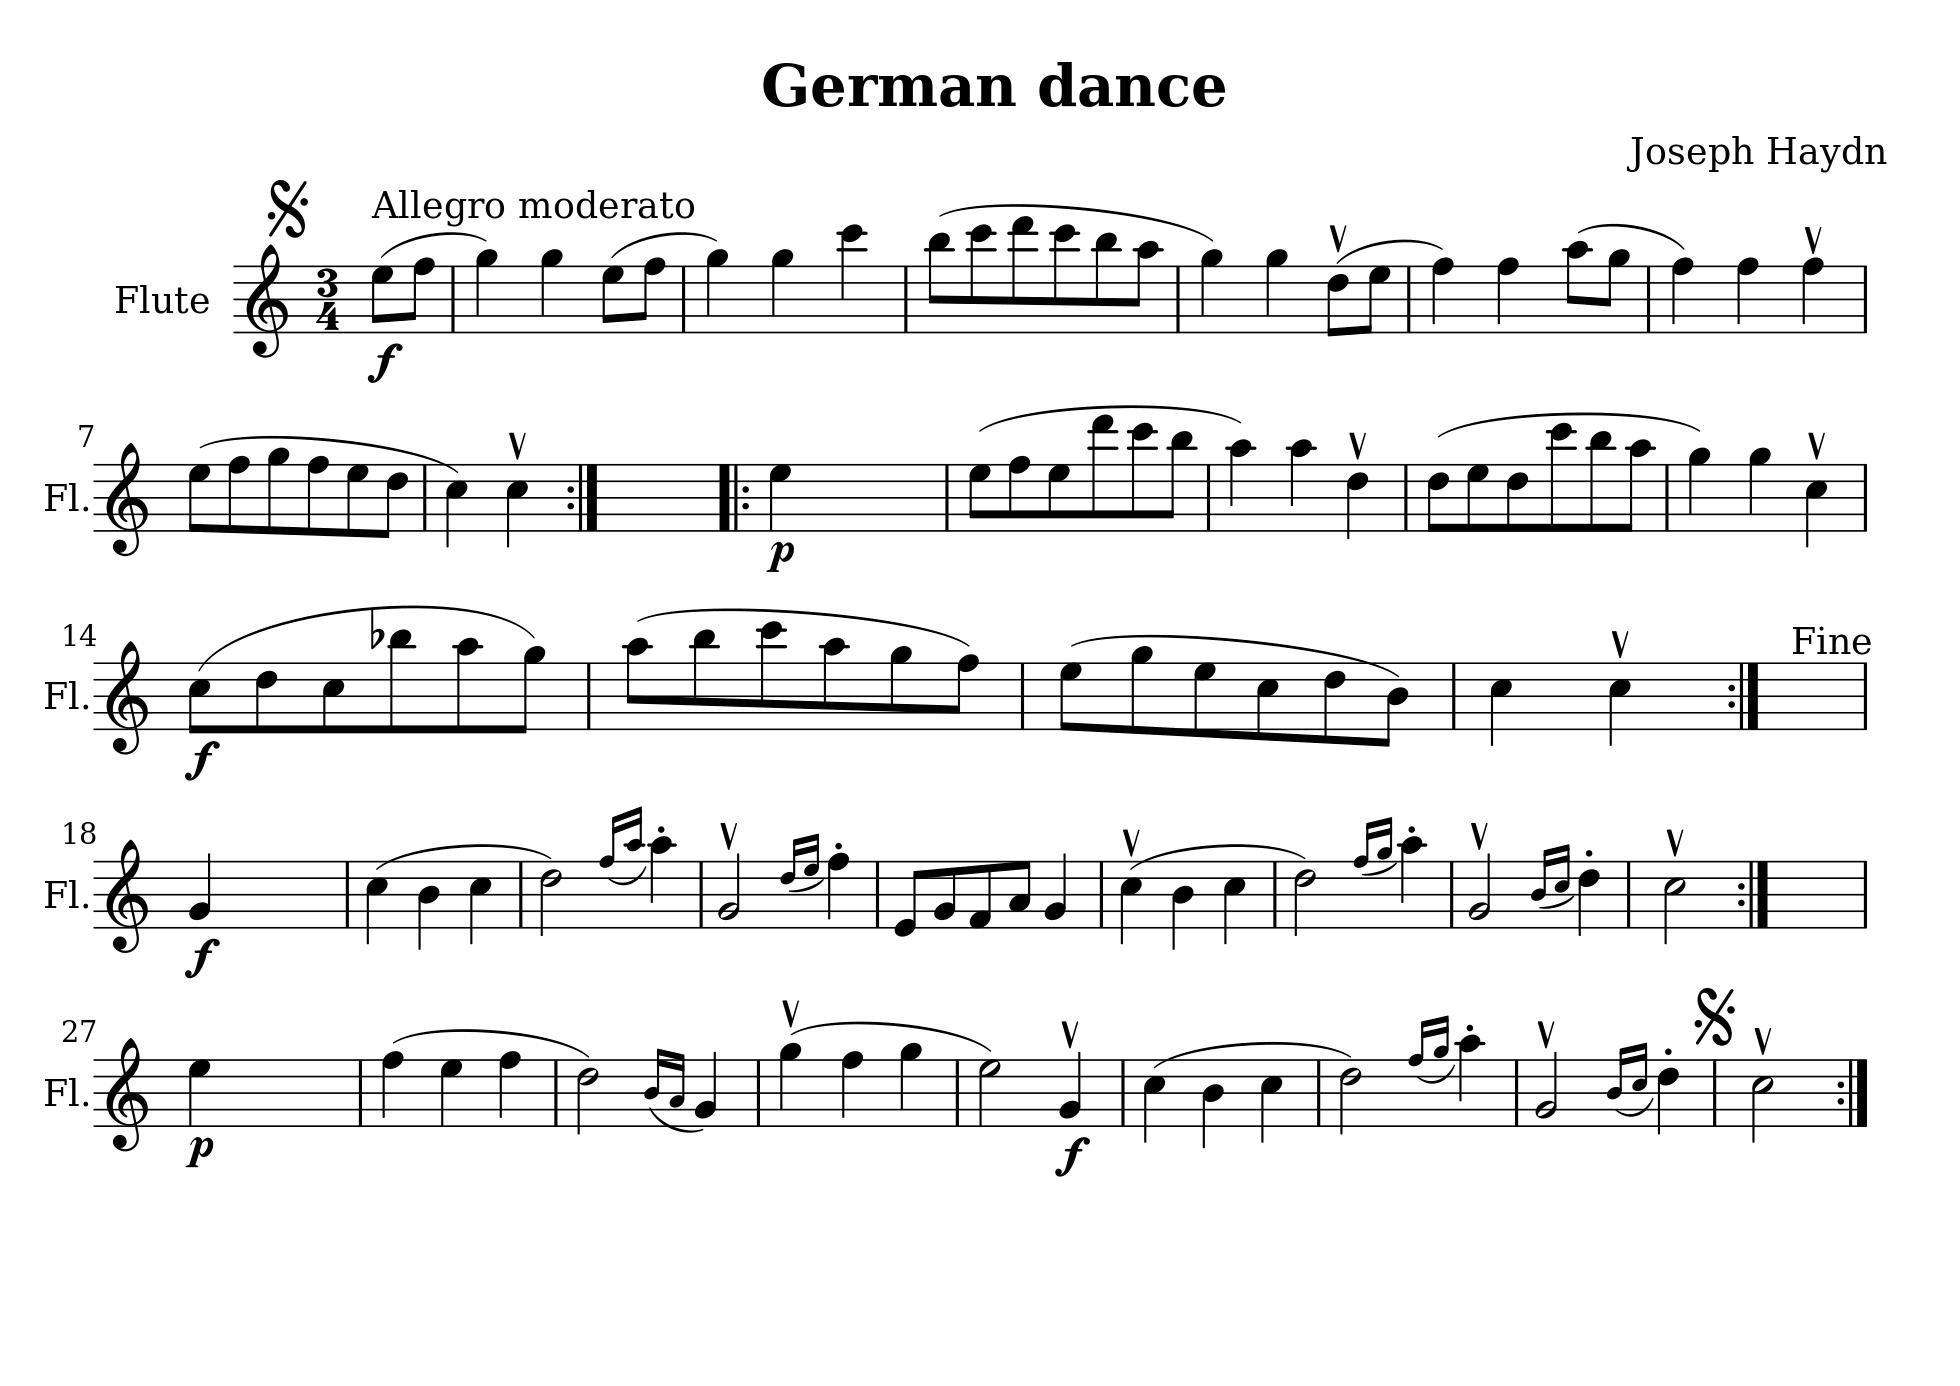1: (61, 619, 76, 648), (61, 817, 76, 846)
2: (60, 1017, 79, 1044)
2_2: (1467, 850, 1494, 930), (1533, 1048, 1560, 1126), (715, 852, 742, 928)
2_5: (1749, 1057, 1776, 1143), (1662, 858, 1687, 943)
2_6: (1293, 858, 1317, 936), (1338, 1057, 1362, 1135), (538, 858, 562, 934), (574, 1056, 598, 1132)
2_7: (976, 1057, 1003, 1128)
3: (315, 264, 340, 295)
4: (313, 297, 340, 331), (79, 621, 96, 646)
4_10: (1225, 436, 1257, 534), (1287, 436, 1317, 534), (646, 834, 676, 930), (1398, 835, 1426, 930), (1456, 1033, 1485, 1128)
4_12: (835, 222, 868, 334)
4_2: (187, 849, 213, 928), (693, 1048, 718, 1126), (1044, 850, 1068, 931), (1059, 1048, 1083, 1126)
4_4: (415, 859, 442, 952), (1200, 1057, 1227, 1150), (1170, 861, 1195, 952)
4_5: (1488, 660, 1515, 748), (363, 858, 390, 946), (466, 859, 493, 946), (1221, 859, 1248, 946), (504, 460, 529, 550), (1804, 460, 1830, 549), (1141, 1056, 1167, 1144), (444, 462, 469, 549), (1119, 859, 1144, 946), (1258, 1057, 1284, 1144), (1608, 660, 1632, 748)
4_6: (1344, 462, 1371, 541), (1576, 859, 1602, 936), (1656, 1057, 1680, 1134)
4_7: (186, 1057, 214, 1128), (766, 462, 793, 532), (438, 1057, 463, 1128)
4_8: (496, 1048, 523, 1129), (838, 1048, 865, 1129), (1735, 255, 1761, 336), (1800, 255, 1825, 336), (379, 1048, 405, 1129), (1495, 255, 1521, 334), (1669, 255, 1695, 334), (1431, 255, 1455, 334), (826, 850, 850, 930)
4_9: (897, 1041, 924, 1129), (472, 247, 499, 334), (703, 247, 730, 334), (769, 247, 796, 334), (1263, 247, 1290, 334), (1686, 445, 1713, 532), (777, 1039, 802, 1128), (538, 247, 564, 334), (1198, 247, 1224, 334), (1747, 445, 1773, 532)
7: (79, 1015, 96, 1044), (78, 421, 94, 448)
8: (78, 817, 97, 846)
8_0: (892, 859, 924, 937)
8_1: (967, 858, 994, 930)
8_10: (1617, 438, 1656, 532), (1128, 238, 1164, 334), (622, 636, 652, 732), (453, 636, 481, 736), (1563, 238, 1591, 334), (820, 636, 847, 732)
8_11: (1161, 427, 1197, 534), (1092, 229, 1122, 334), (387, 627, 415, 736), (925, 231, 955, 334), (690, 627, 718, 733), (1587, 429, 1615, 534)
8_12: (757, 619, 787, 733), (967, 222, 997, 334), (1051, 223, 1080, 336), (1129, 421, 1158, 534), (1548, 421, 1576, 534)
8_13: (1008, 214, 1038, 336), (1087, 412, 1117, 534)
8_2: (931, 858, 957, 930)
8_3: (1008, 856, 1032, 930)
8_4: (1377, 660, 1410, 748)
8_5: (1254, 660, 1281, 742), (319, 660, 346, 736), (187, 660, 211, 735)
8_6: (379, 462, 409, 538), (1321, 658, 1347, 745), (253, 660, 279, 735), (1326, 264, 1350, 339), (1425, 462, 1450, 532), (1506, 462, 1530, 532)
8_7: (1360, 264, 1392, 334), (1191, 658, 1218, 739), (343, 460, 370, 538), (1059, 660, 1084, 733), (369, 262, 394, 334), (600, 262, 625, 334), (1465, 462, 1491, 532), (187, 462, 211, 532), (967, 462, 991, 532), (1047, 462, 1071, 532)
8_8: (946, 652, 981, 732), (405, 255, 436, 334), (636, 255, 667, 334), (304, 453, 330, 537), (1006, 453, 1032, 532), (226, 454, 250, 535)
8_9: (511, 643, 546, 735), (1600, 247, 1632, 334), (1128, 643, 1155, 736), (886, 643, 913, 732), (265, 445, 291, 535)
Appoggiature_2: (601, 805, 646, 937), (1408, 1012, 1450, 1126), (781, 831, 822, 930), (1356, 817, 1392, 927), (1608, 1041, 1650, 1126), (1534, 841, 1572, 931)
Fl: (40, 874, 81, 912), (40, 478, 81, 514), (40, 1074, 81, 1110), (40, 676, 79, 712), (112, 280, 148, 316)
Flat: (367, 607, 384, 649)
Gclef: (103, 439, 151, 556), (103, 637, 148, 754), (244, 241, 289, 357), (103, 837, 148, 952), (103, 1035, 148, 1150)
LeftRepeatSign: (714, 462, 751, 531)
RightRepeatSign: (1725, 661, 1764, 730), (1834, 1057, 1872, 1126), (564, 463, 601, 531), (1735, 859, 1771, 928)
Segno: (264, 174, 313, 240), (1692, 984, 1737, 1045)
Single_barline: (1855, 859, 1875, 927), (547, 1059, 567, 1125), (1857, 661, 1875, 729), (513, 859, 531, 927), (897, 265, 915, 331), (1170, 265, 1188, 331), (1641, 265, 1659, 331), (1857, 265, 1875, 331), (1401, 265, 1419, 331), (1200, 463, 1218, 529), (1014, 661, 1032, 727), (1311, 1059, 1329, 1125), (1659, 465, 1677, 529), (415, 466, 433, 529), (580, 661, 597, 729), (339, 859, 355, 927), (1267, 859, 1284, 927), (939, 463, 955, 529), (1398, 463, 1414, 529), (1857, 463, 1873, 529), (352, 1059, 369, 1125), (951, 1059, 967, 1125), (1095, 859, 1110, 927), (445, 265, 460, 331), (676, 265, 691, 331), (1446, 661, 1461, 727), (870, 859, 885, 925), (751, 1059, 766, 1125), (1116, 1059, 1131, 1125), (1707, 1059, 1722, 1123), (1509, 1060, 1524, 1125), (1621, 862, 1636, 925), (1446, 861, 1459, 927), (694, 861, 708, 925)
Slur: (196, 606, 535, 676), (1071, 636, 1401, 682), (636, 607, 975, 649), (943, 202, 1216, 244), (195, 436, 465, 475), (981, 403, 1242, 430), (1440, 411, 1701, 436), (394, 1027, 591, 1060), (1153, 1039, 1348, 1072), (789, 1023, 996, 1051), (375, 841, 556, 871), (1575, 220, 1686, 252), (607, 229, 721, 255), (1336, 237, 1446, 262), (379, 229, 487, 255), (649, 1105, 703, 1132), (607, 862, 648, 886), (1614, 1096, 1656, 1119), (1416, 1062, 1456, 1084), (1537, 892, 1575, 910), (1359, 859, 1398, 876), (784, 877, 826, 892)
TimeSig: (313, 265, 343, 331)
Tremolo_bar: (1609, 627, 1632, 660), (507, 429, 529, 460), (1806, 429, 1828, 460), (1468, 819, 1491, 850), (1120, 825, 1143, 856), (1803, 223, 1824, 256), (1347, 429, 1368, 462), (1327, 222, 1350, 252), (1059, 1018, 1081, 1048), (1752, 1024, 1774, 1054), (718, 819, 739, 850), (1665, 825, 1686, 856), (1536, 1017, 1557, 1048), (781, 996, 801, 1029)
f: (1051, 1134, 1092, 1177), (183, 936, 220, 979), (364, 342, 403, 382), (184, 739, 220, 781)
p: (763, 538, 796, 574), (184, 1134, 214, 1170)
